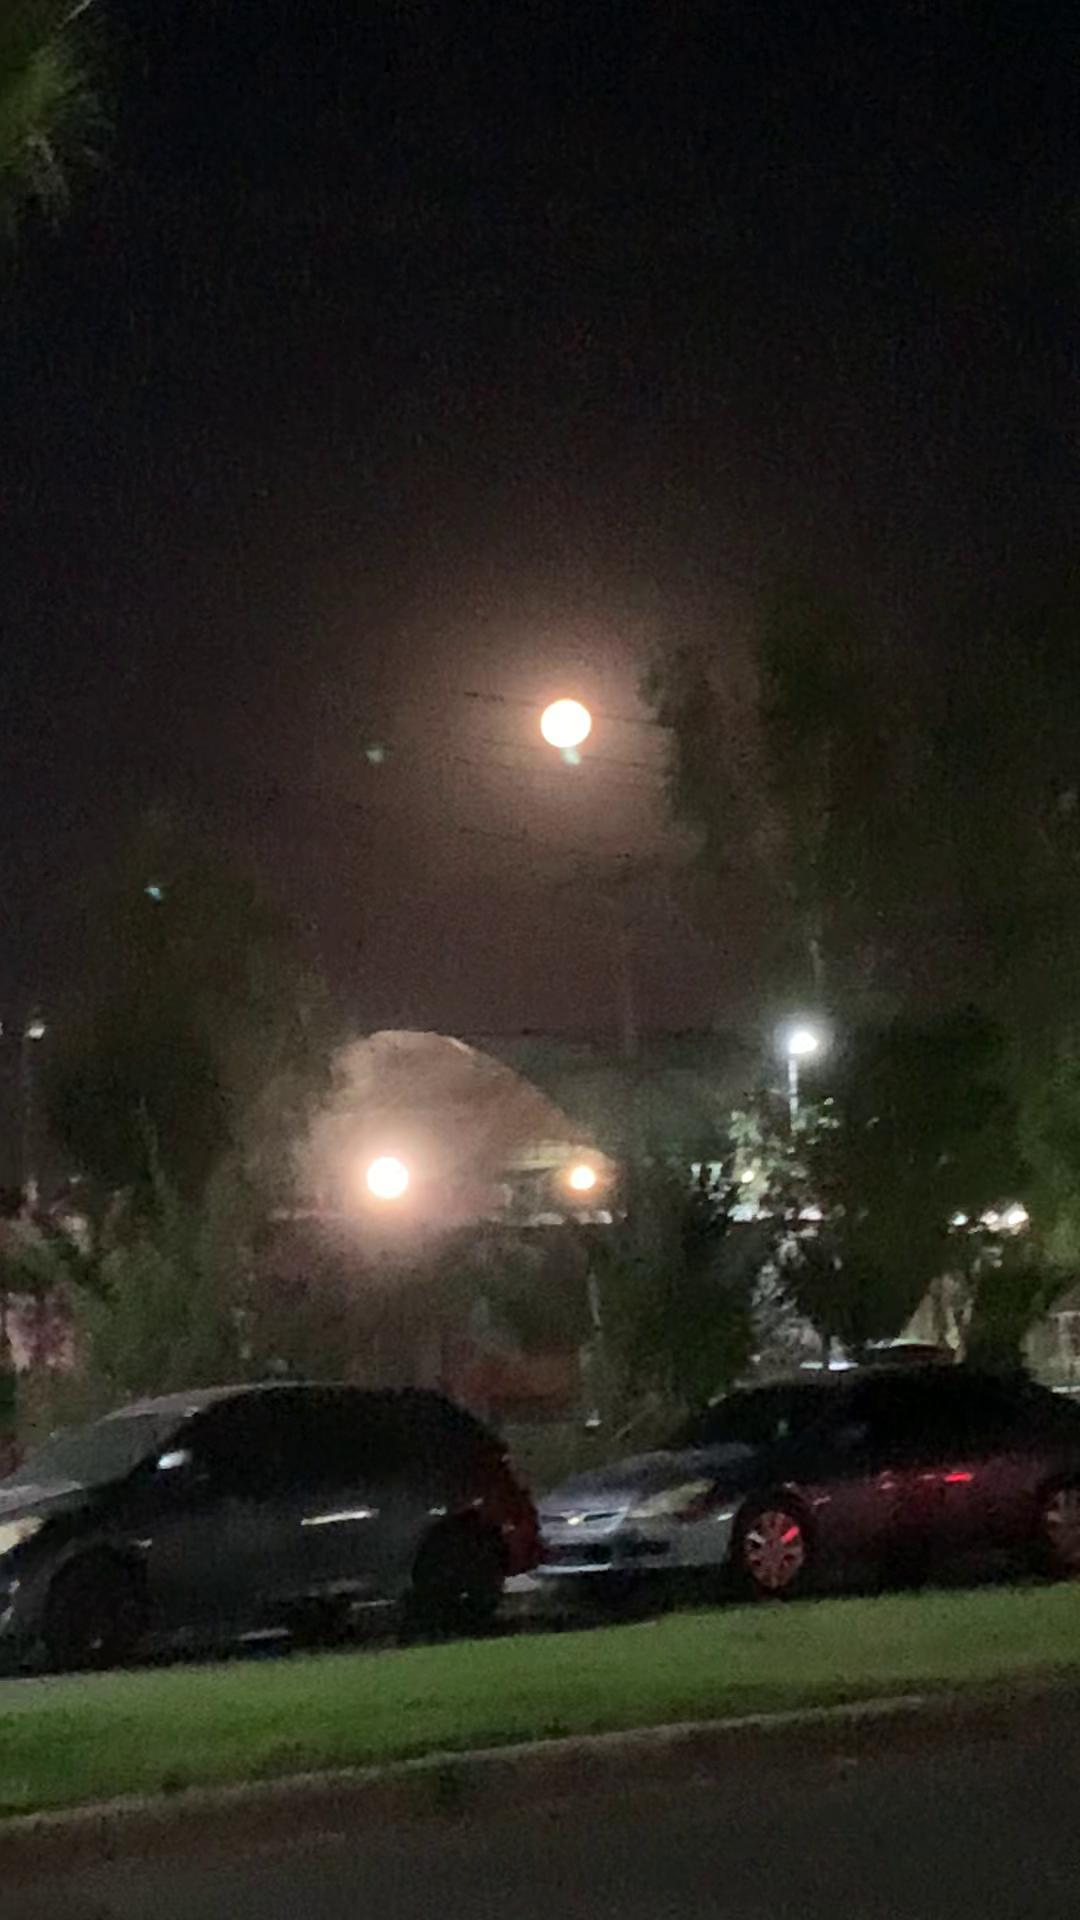moon: (534, 671, 622, 748)
